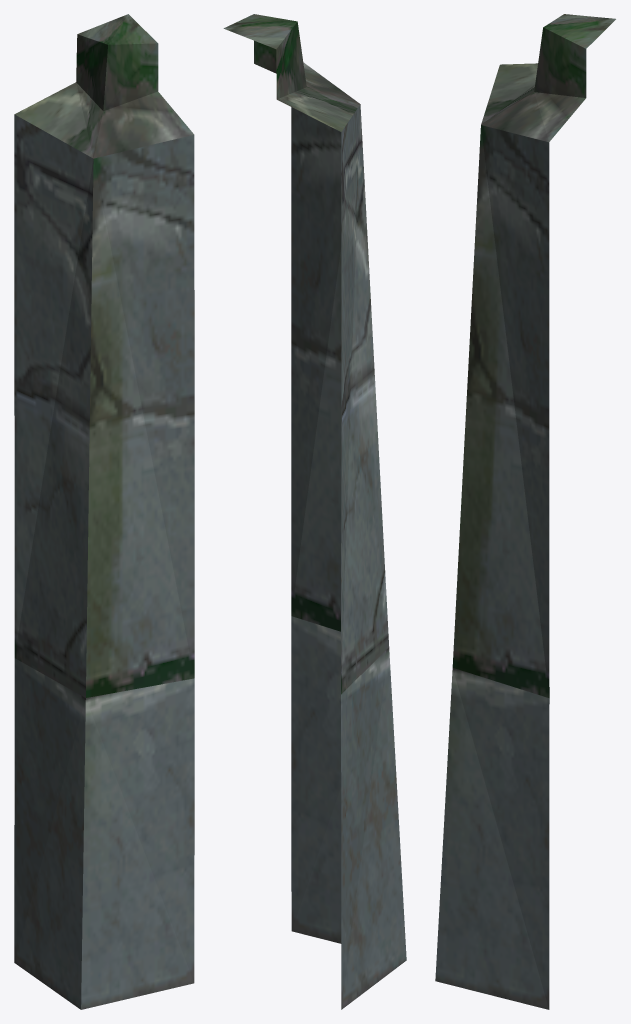
The model's file is stemple_half_convex_03.fbx.
The picture shows the model from 3 angles, left to right: view 1: azimuth 30°, elevation 25°; view 2: azimuth 150°, elevation 25°; view 3: azimuth 330°, elevation 25°; orthographic projection. The views are drawn at different scales.
Parts seen in each view (by area): view 1: obj1.094; view 2: obj1.094; view 3: obj1.094.
Part boxes in pixels (bbox=[...]): obj1.094: bbox=[14, 14, 194, 1009]; obj1.094: bbox=[223, 14, 406, 1009]; obj1.094: bbox=[435, 14, 615, 1009].
Bounding box in the file's own units: 0.4199 × 3.23 × 0.422.
